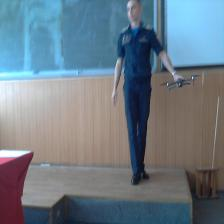drone: (158, 72, 201, 90)
